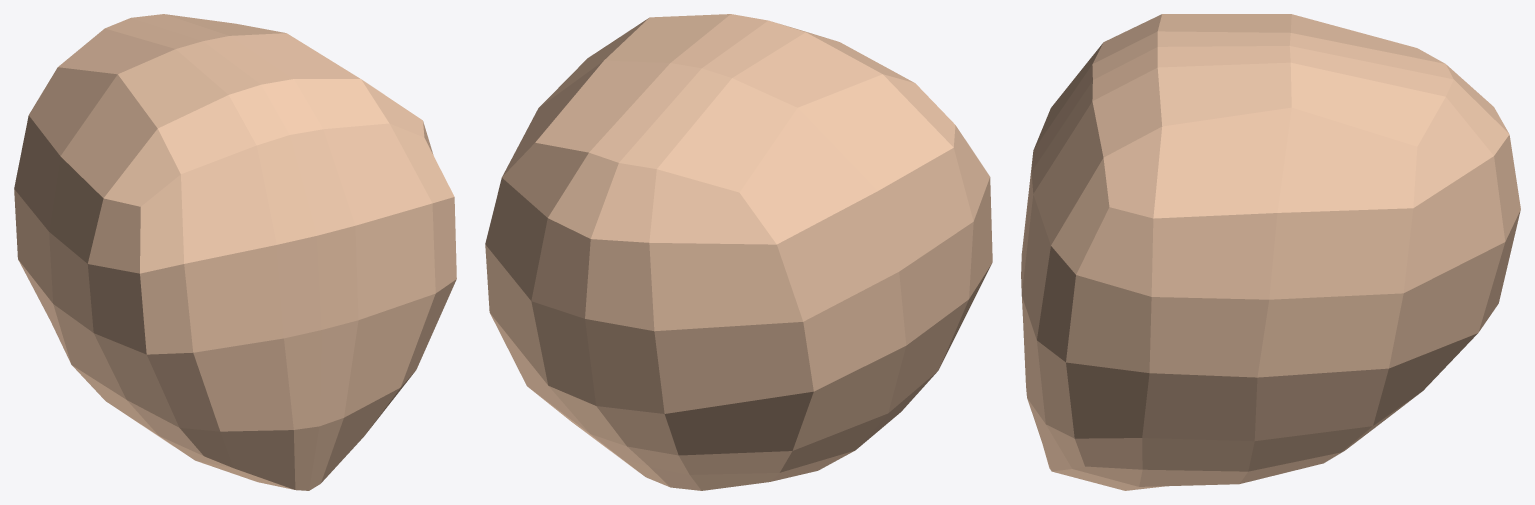
File: Cabeza_Gota.fbx
The picture shows the model from 3 angles, left to right: view 1: azimuth 30°, elevation 25°; view 2: azimuth 150°, elevation 25°; view 3: azimuth 270°, elevation 25°; orthographic projection. The views are drawn at different scales.
Parts seen in each view (by area): view 1: Cabeza_Gota1; view 2: Cabeza_Gota1; view 3: Cabeza_Gota1.
Part boxes in pixels (<box>): Cabeza_Gota1: <box>14,14,456,490</box>; Cabeza_Gota1: <box>485,14,992,490</box>; Cabeza_Gota1: <box>1021,14,1520,490</box>.
Size of the model in its own units: 2.77 by 2.9 by 3.
